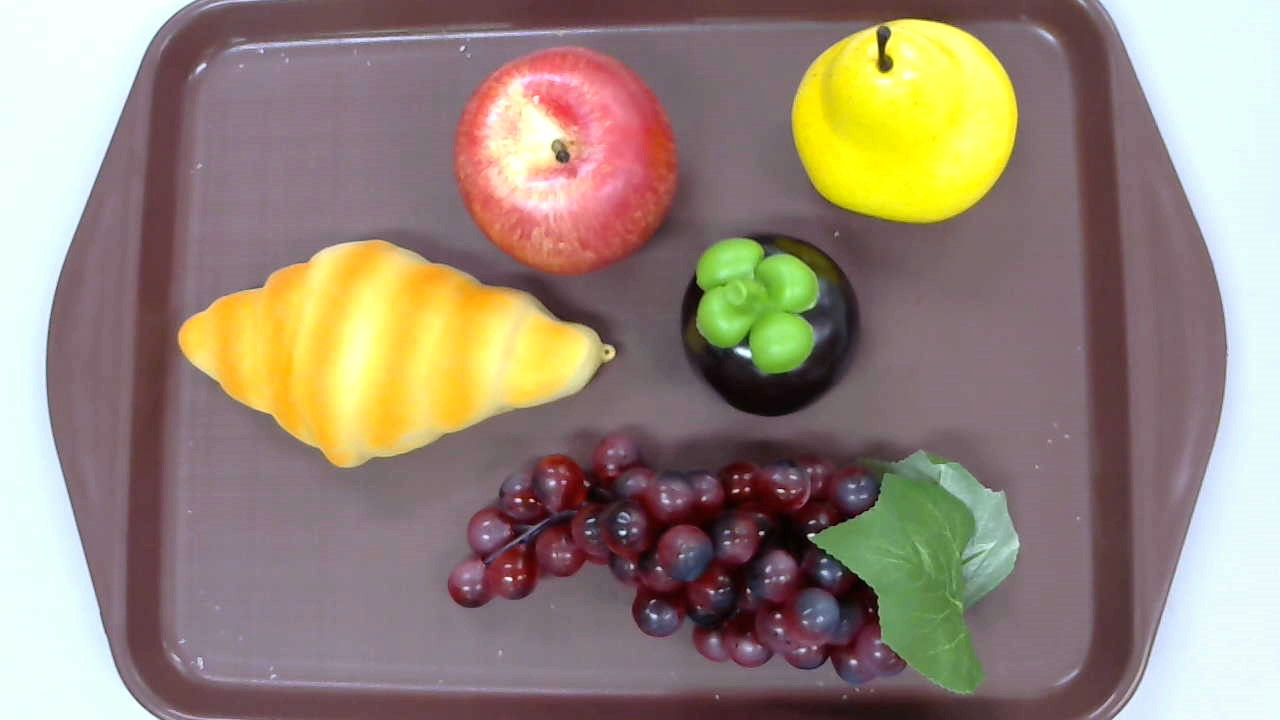croissant: (175, 239, 615, 469)
grape: (447, 434, 1021, 694)
mangosteen: (682, 233, 860, 419)
red apple: (452, 48, 679, 278)
yellow pear: (790, 18, 1019, 223)
